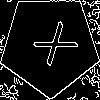X: (25, 20, 79, 74)
